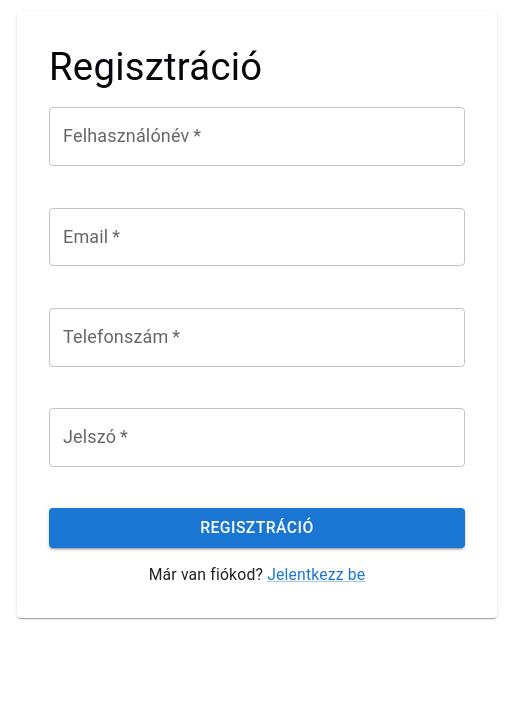
Test case: Register oldal › mező-szintű szerverhibákat a megfelelő input mellett jelenít meg
Type "valaki" into the field named "username" at (257, 137), box [49,107,465,166]
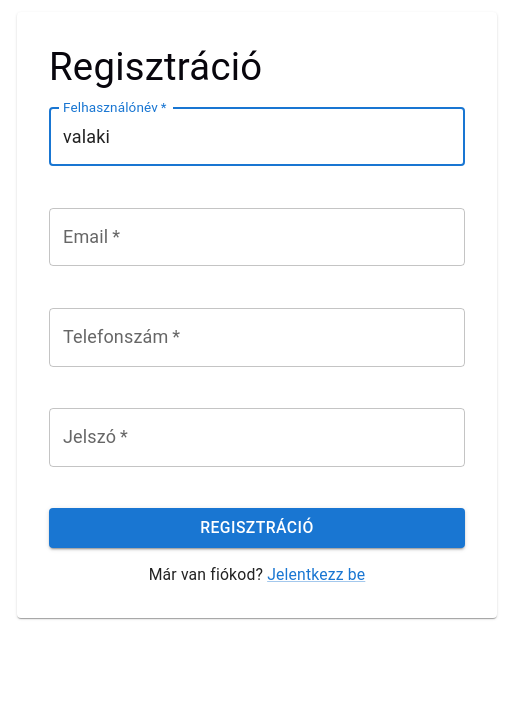
Type "rossz-email" into the field labelled "Email" at (257, 237), box [49,208,465,266]
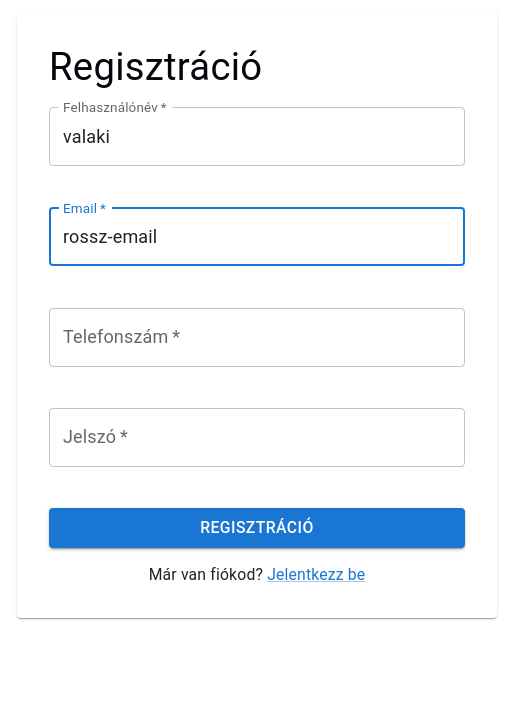
Type "06301234567" into the field named "phone" at (257, 337), box [49,308,465,367]
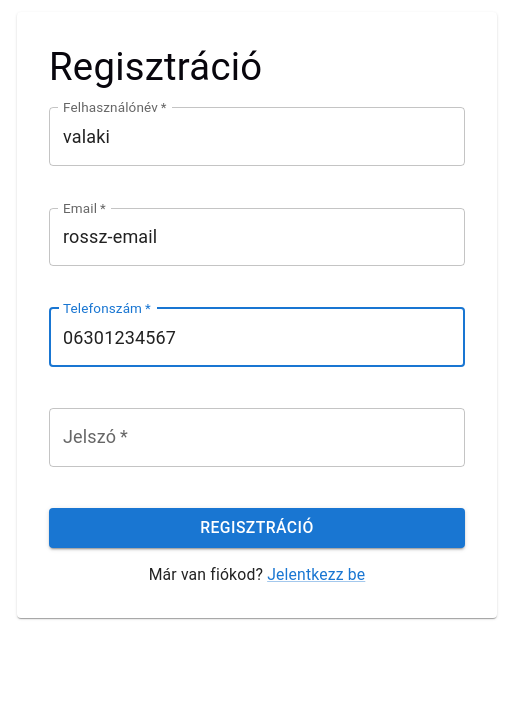
Type "pw123" into the password field named "password" at (257, 438), box [49,408,465,467]
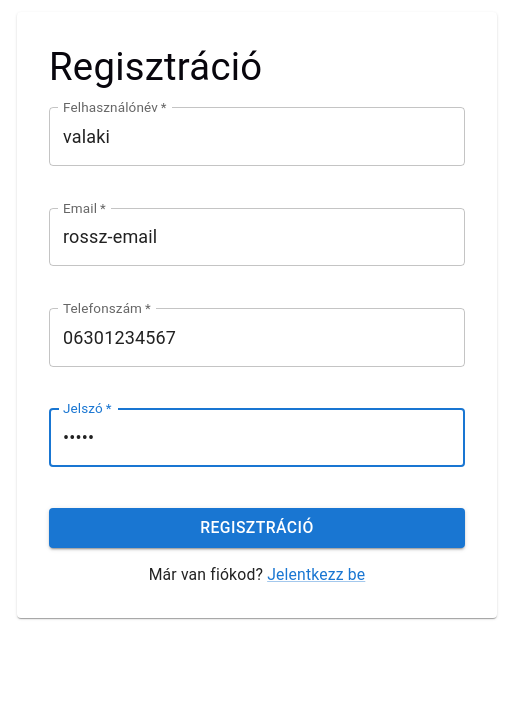
Click the button "Regisztráció" at (257, 528), box [49,508,465,548]
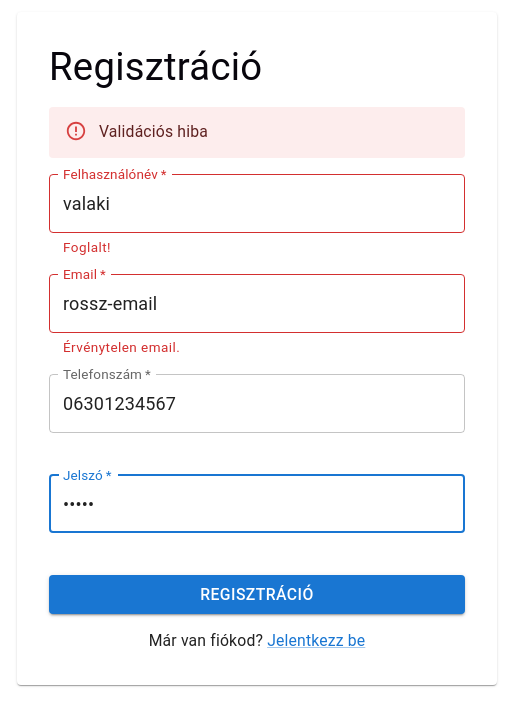
Result: the text "Foglalt!" is shown at [63,239,111,255]
Result: the text "Érvénytelen email." is shown at [63,339,180,355]
